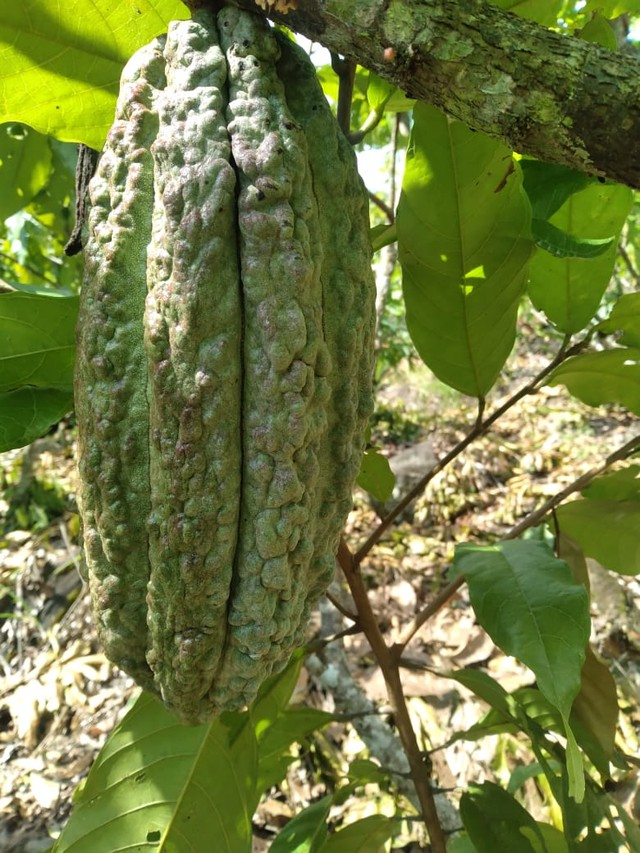Health: (42, 1, 404, 743)
